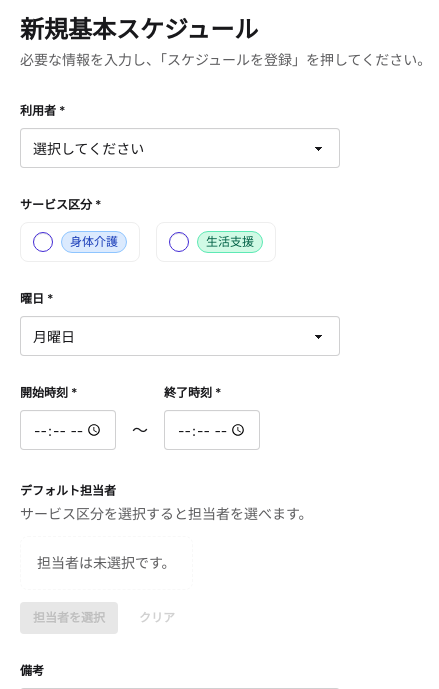
it: BasicScheduleForm (新規利用者登録) › 「新規利用者を登録」オプションを選択すると氏名入力フィールドが表示される
The image size is (439, 689).
Expected: the field labelled "新規利用者の氏名 *" is not shown
新規利用者を選択
Select "➕ 新規利用者を登録" in the dropdown labelled "利用者 *" at [180, 148], box [20,128,340,168]
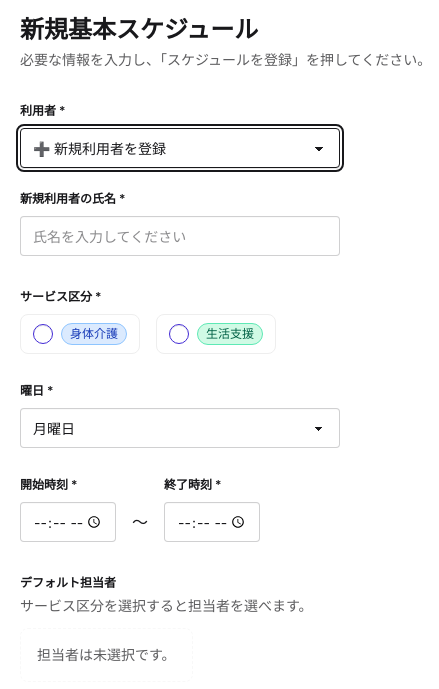
Result: the field labelled "新規利用者の氏名 *" is shown at [20,216,340,256]
